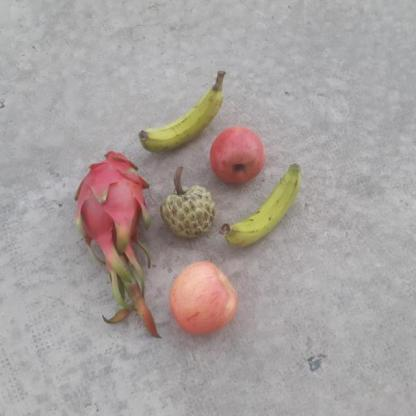annona: (154, 183, 216, 242)
apple: (165, 257, 243, 337), (206, 120, 264, 182)
banana: (220, 163, 303, 248), (137, 82, 224, 151)
pitaya: (74, 147, 150, 251)
